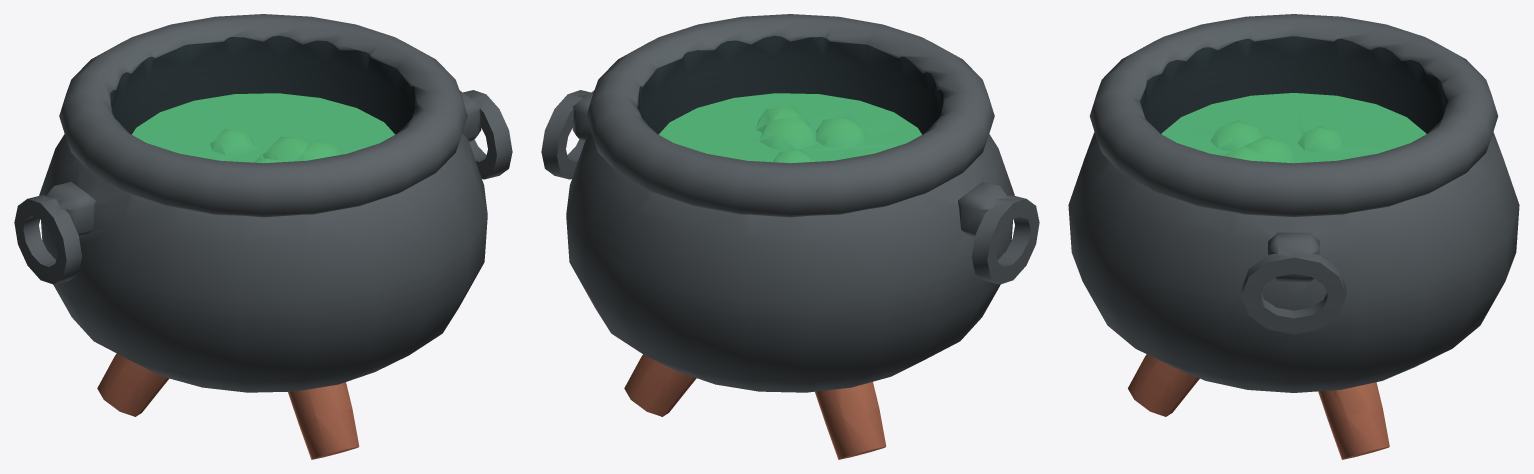
File: cauldron.glb
The picture shows the model from 3 angles, left to right: view 1: azimuth 30°, elevation 25°; view 2: azimuth 150°, elevation 25°; view 3: azimuth 270°, elevation 25°; orthographic projection.
Parts seen in each view (by area): view 1: cauldron; view 2: cauldron; view 3: cauldron.
Part boxes in pixels (x1,y1,x2,y2): cauldron: [14, 14, 512, 459]; cauldron: [541, 14, 1039, 459]; cauldron: [1068, 14, 1519, 459].
Size of the model in its own units: 1.58 by 1.08 by 1.38.
Materials: 2 (2 with a texture image).
